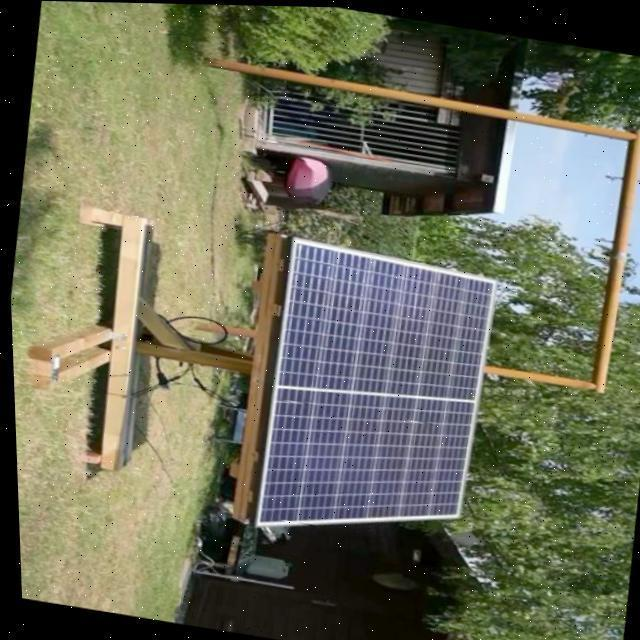Normal Solar Panel: (240, 233, 504, 557)
